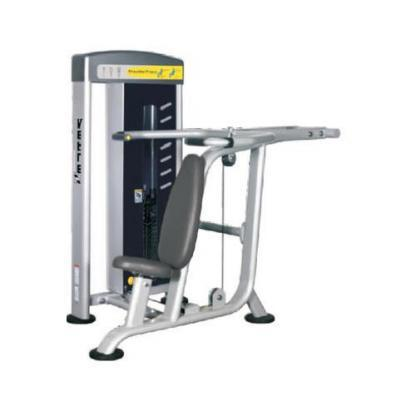shoulder press machine: (69, 50, 346, 362)
